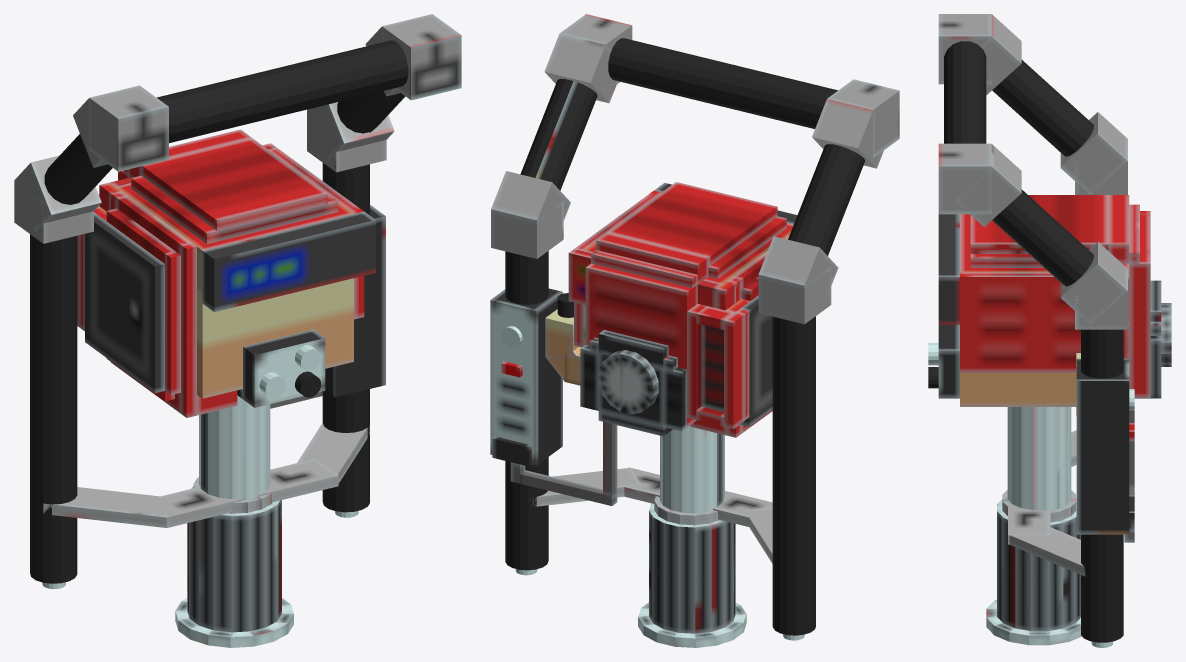
The model's file is vein_miner.obj.
3 renders of one model, left to right at view 1: azimuth 30°, elevation 25°; view 2: azimuth 150°, elevation 25°; view 3: azimuth 270°, elevation 25°, orthographic. The views are drawn at different scales.
Parts seen in each view (by area): view 1: cube, hexadecagon; view 2: cube, hexadecagon; view 3: cube, hexadecagon.
Boxes of the visible parts, x1=… form: cube: x1=14, y1=14, x2=461, y2=527; hexadecagon: x1=30, y1=40, x2=408, y2=647; cube: x1=490, y1=14, x2=899, y2=563; hexadecagon: x1=501, y1=38, x2=864, y2=647; cube: x1=938, y1=14, x2=1161, y2=576; hexadecagon: x1=928, y1=41, x2=1171, y2=647.
Size of the model in its own units: 2.12 by 3.47 by 1.44.
